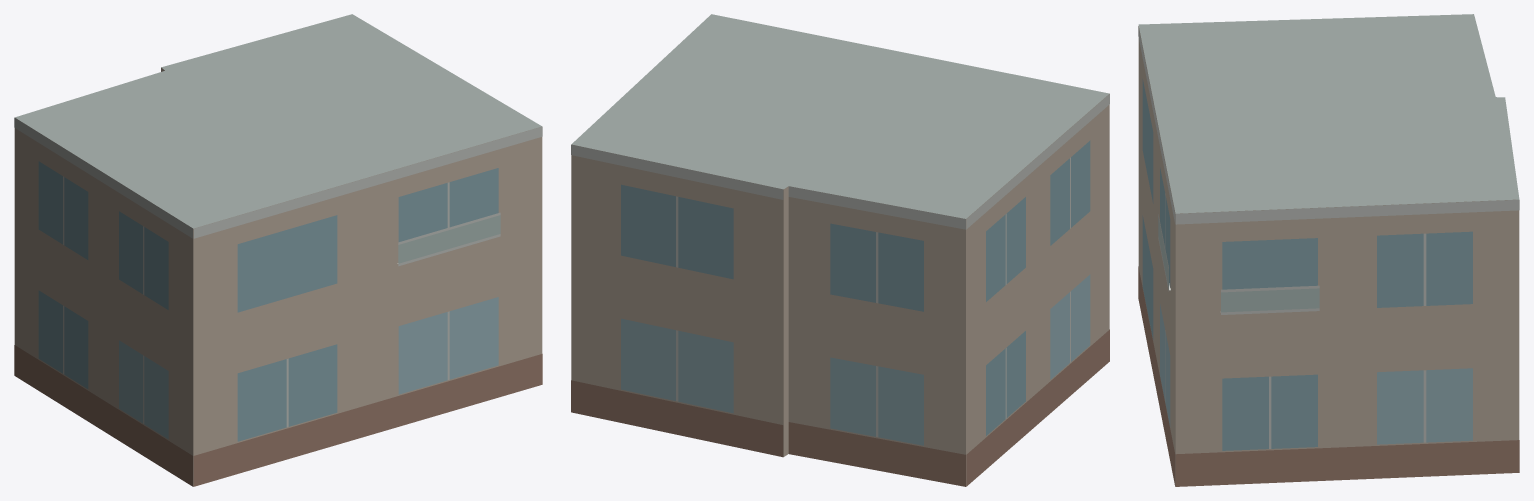
File: survey-upis-32621809.glb
3 renders of one model, left to right at view 1: azimuth 30°, elevation 25°; view 2: azimuth 150°, elevation 25°; view 3: azimuth 270°, elevation 25°, orthographic. The views are drawn at different scales.
Visible parts, largest first — view 1: survey-upis-32621809.tmp; view 2: survey-upis-32621809.tmp; view 3: survey-upis-32621809.tmp.
Part boxes in pixels (x1,y1,x2,y2): survey-upis-32621809.tmp: (14, 14, 542, 486); survey-upis-32621809.tmp: (571, 14, 1109, 486); survey-upis-32621809.tmp: (1138, 14, 1519, 486).
Size of the model in its own units: 9.57 by 6.1 by 7.72.
